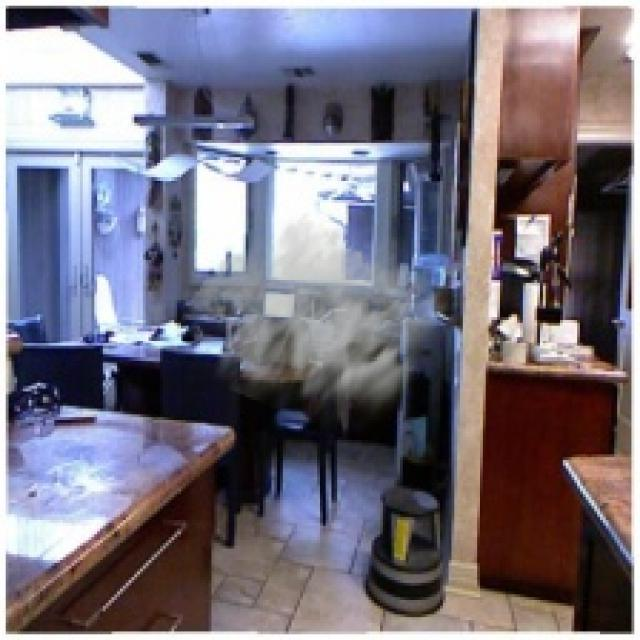Smoke: (177, 211, 460, 446)
